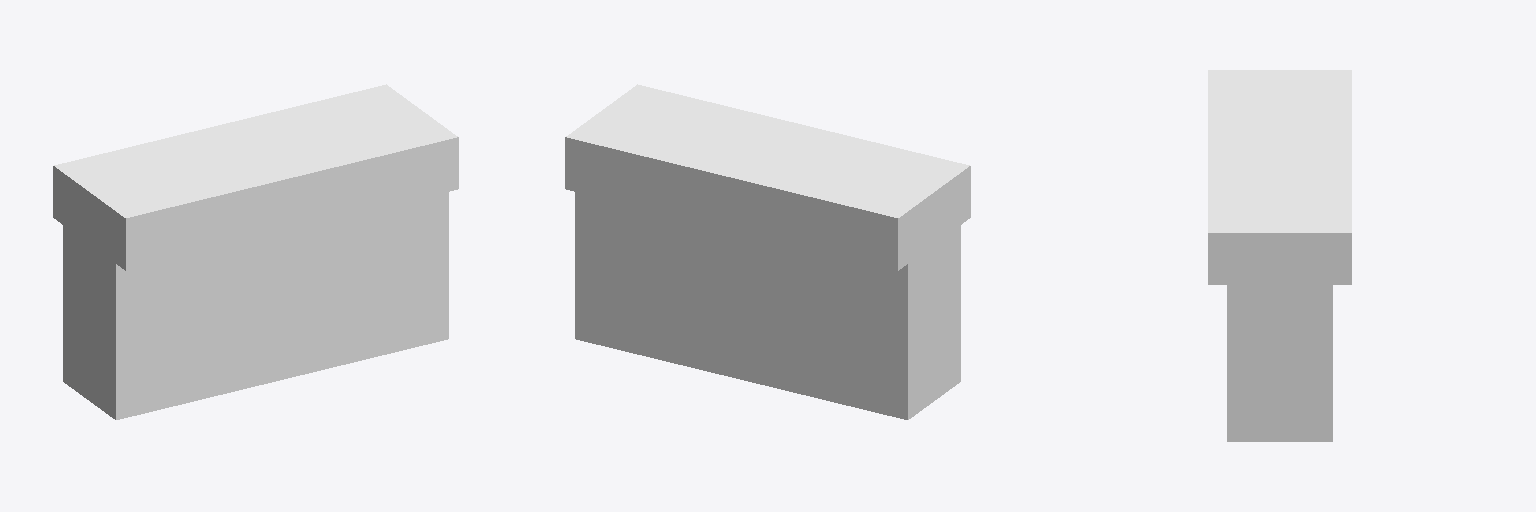
Rendered from border1-1-lod2.obj.
3 renders of one model, left to right at view 1: azimuth 30°, elevation 25°; view 2: azimuth 150°, elevation 25°; view 3: azimuth 270°, elevation 25°, orthographic.
Visible parts, largest first — view 1: lod2; view 2: lod2; view 3: lod2.
Boxes of the visible parts, box(x1,y1,x2,y2) form: lod2: box(53, 84, 458, 419); lod2: box(565, 84, 970, 419); lod2: box(1208, 70, 1351, 441).
Size of the model in its own units: 16 by 9.6 by 6.